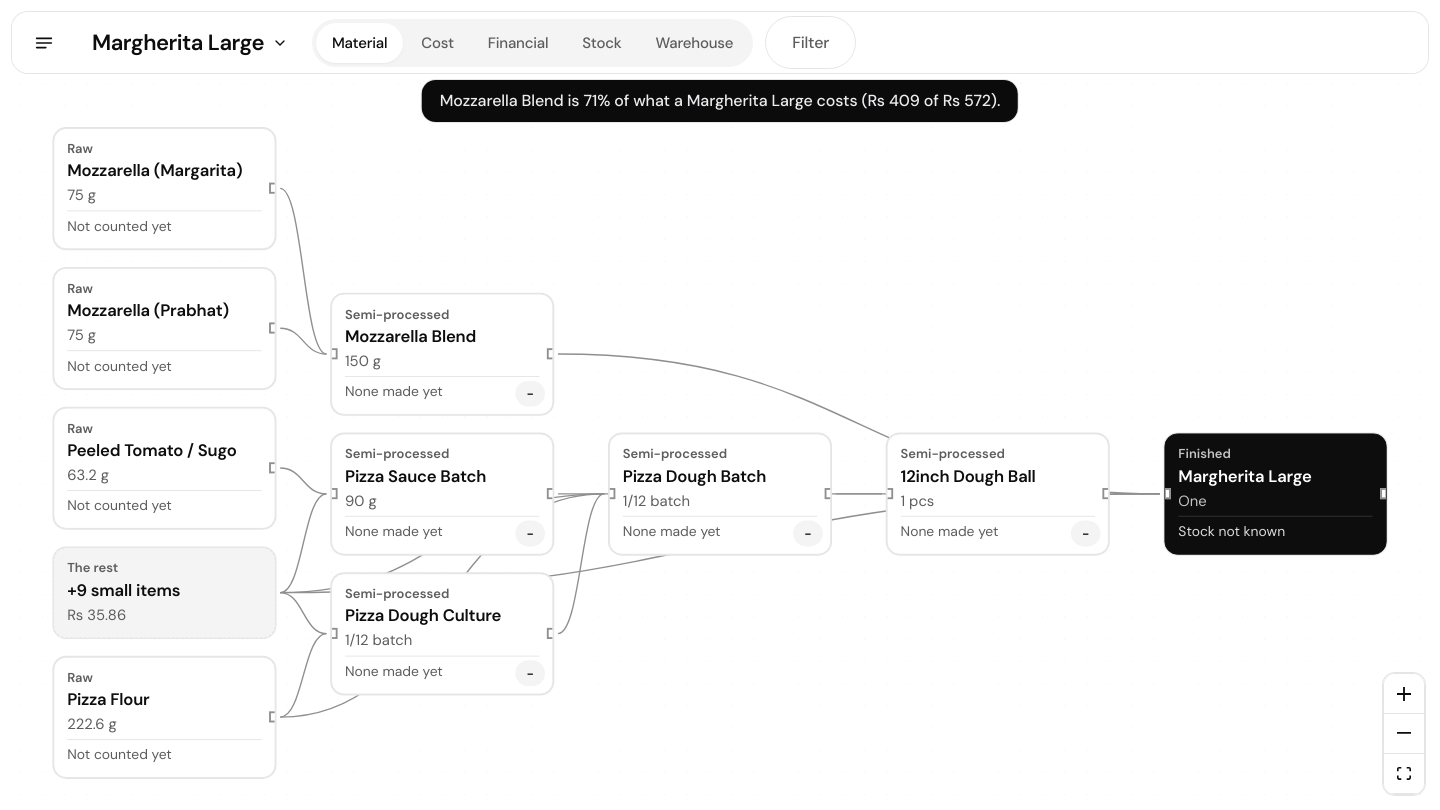
the owner sees how a pizza is made, from flour through the dough to the pizza, and each opening is recorded
The width and height of the screenshot is (1440, 810).
Expected: the button with aria-label "Showing Margherita Large" is shown, [80, 18, 300, 66]
Expected: the text "Pizza Dough Culture" is shown, [345, 605, 501, 627]
Click the text "Margherita Large" below "Finished": point(1245, 476) [1178, 465, 1312, 487]
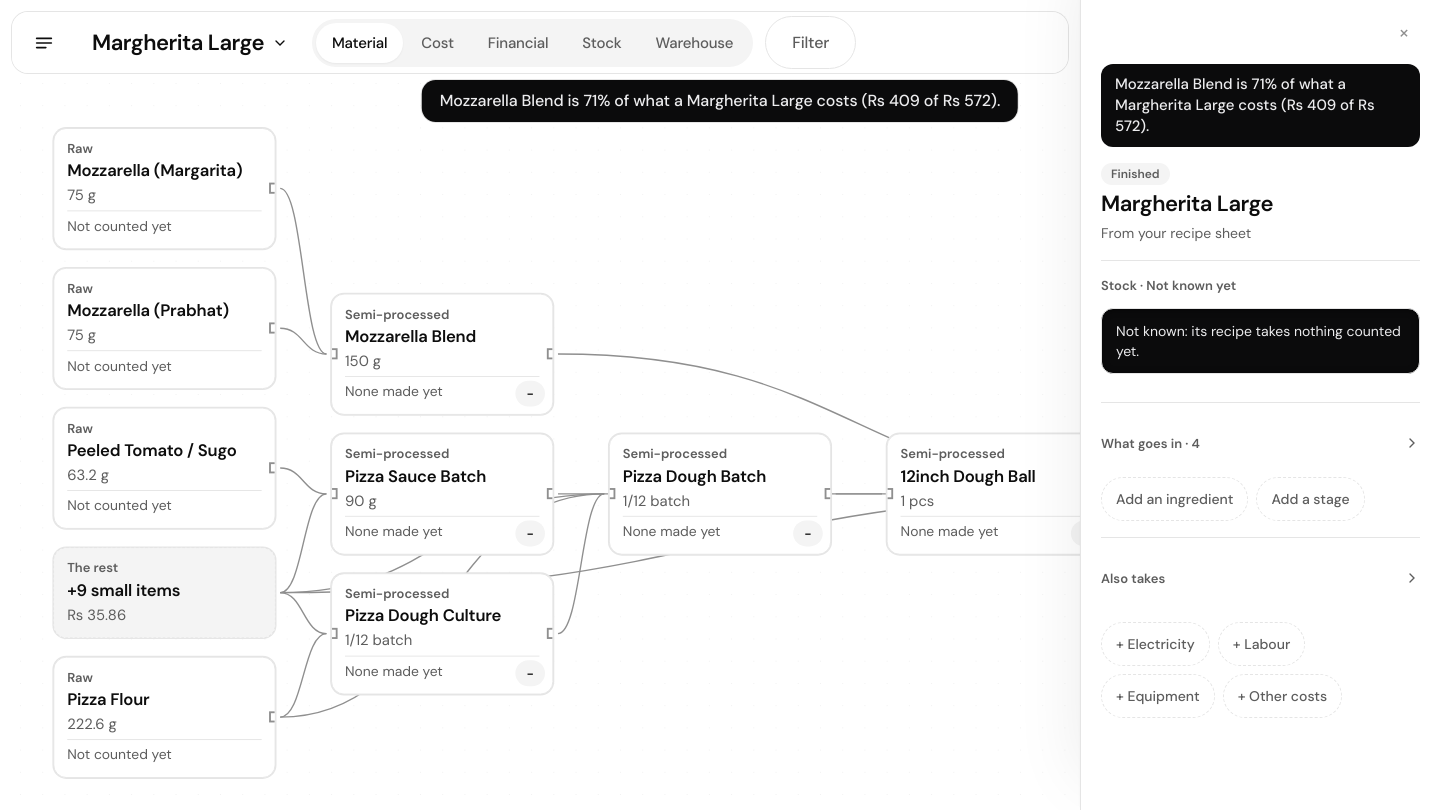
Result: the heading "Margherita Large" is shown at [1101, 191, 1273, 217]
